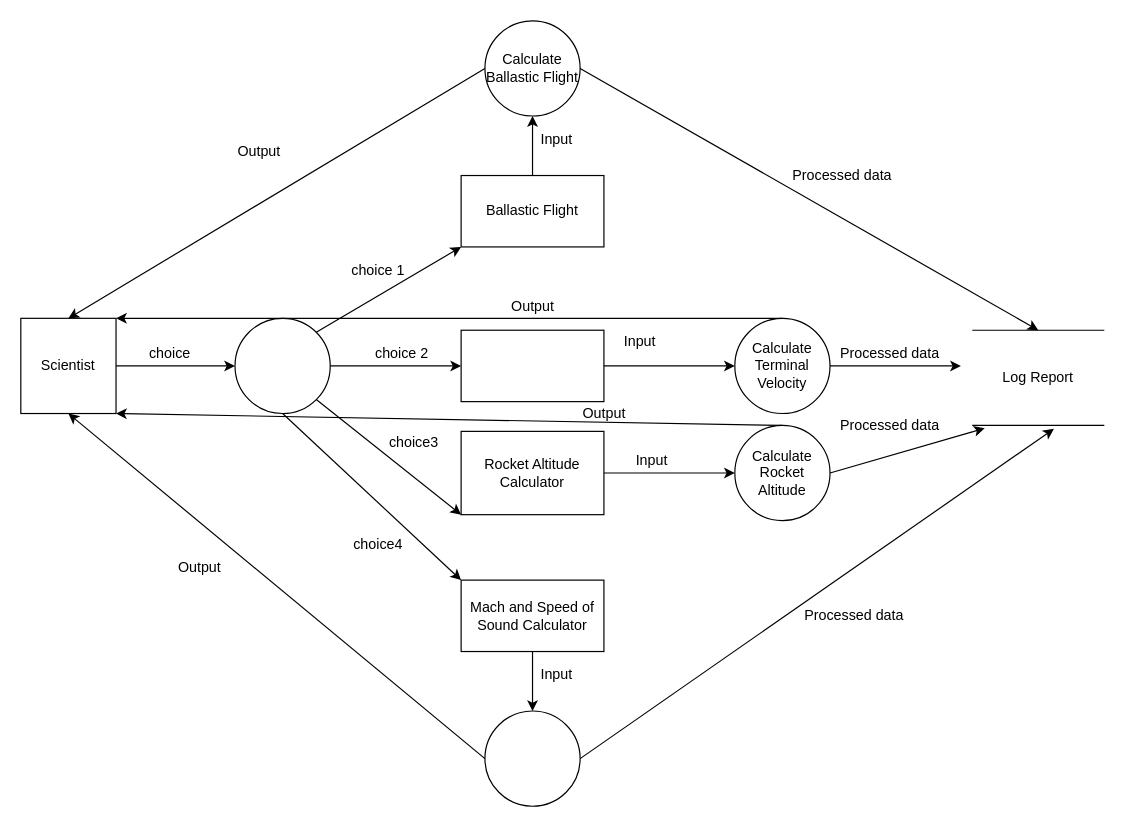
Image size: 1125x827. Some labels were removed from this diagram. The shapes that lost their labels are listed below. From the top down, each one's centre as x and y in pixels, then its label:
At pixel 282 365: "Load Calculator".
At pixel 532 365: "Terminal Velocity Calculator".
At pixel 532 758: "Calculate Mach and Speed of Sound".
